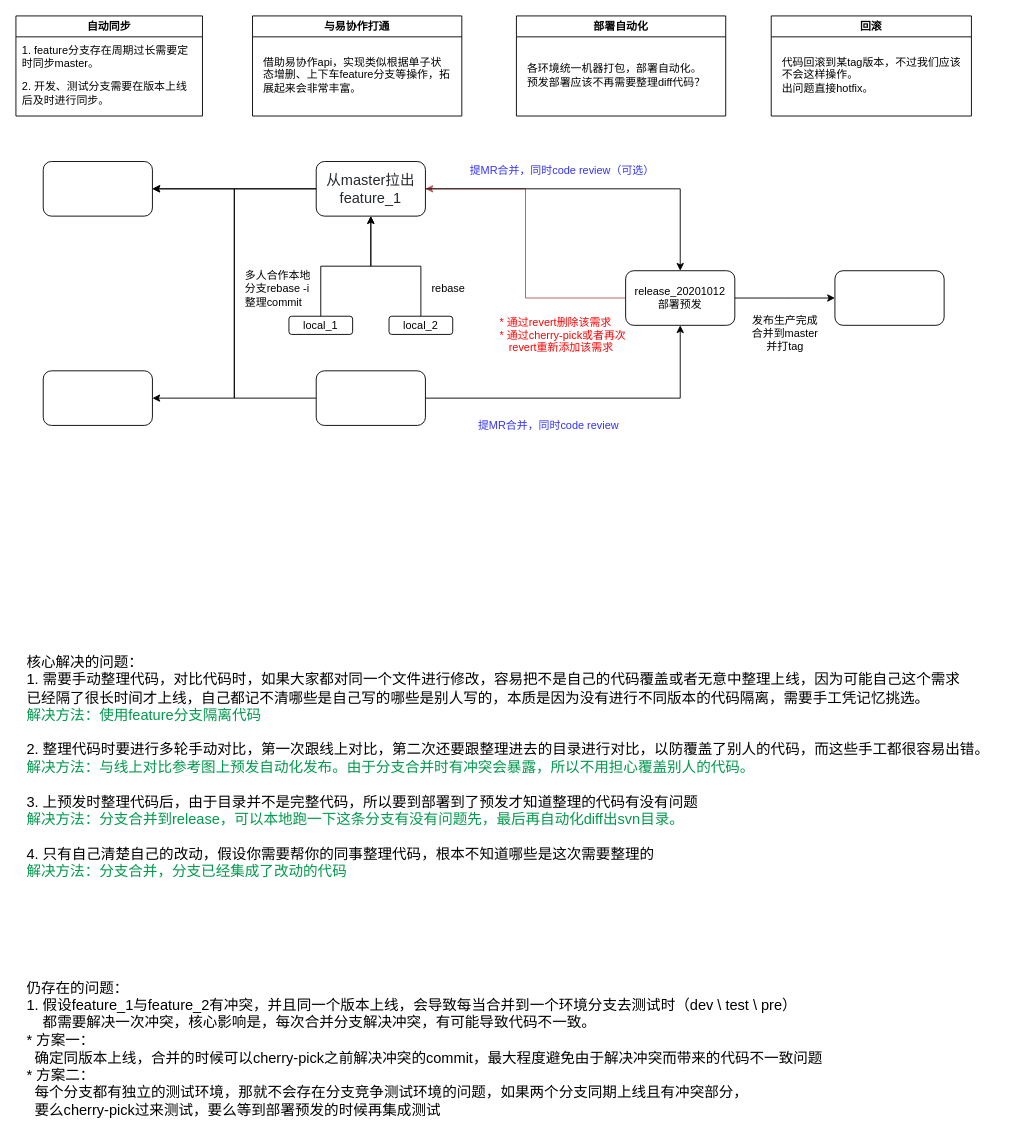
The diagram is 1024 pixels wide and 1135 high, and some of its shapes have lost their labels. Each missing label, with the centre of its shape:
dev分支 开发环境测试: pixel 97 188
master: pixel 889 297
test分支 测试环境测试: pixel 97 397
从master拉出 feature_2: pixel 370 397
